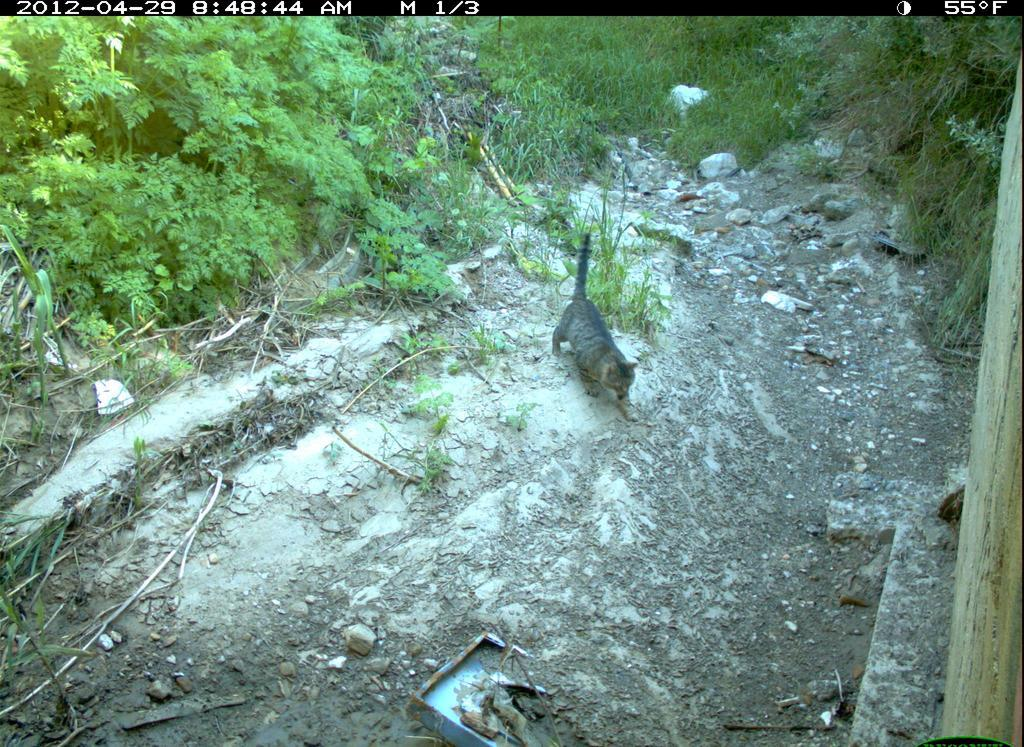cat: (545, 226, 653, 433)
